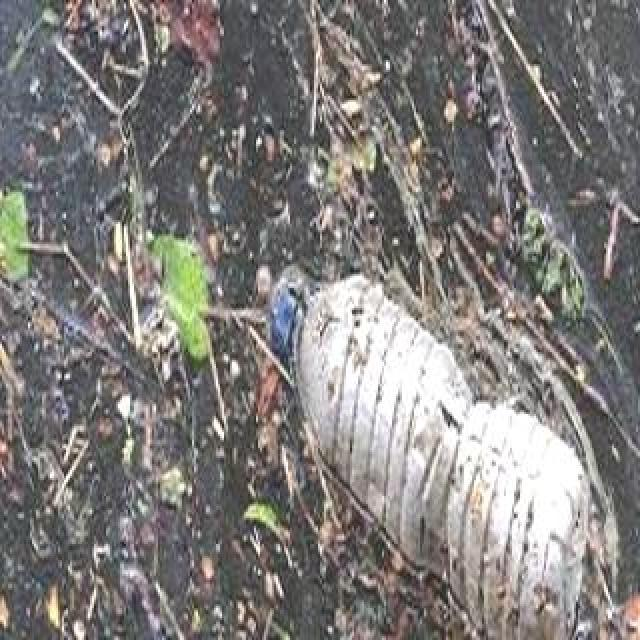Pet_Bottle: (267, 272, 599, 640)
